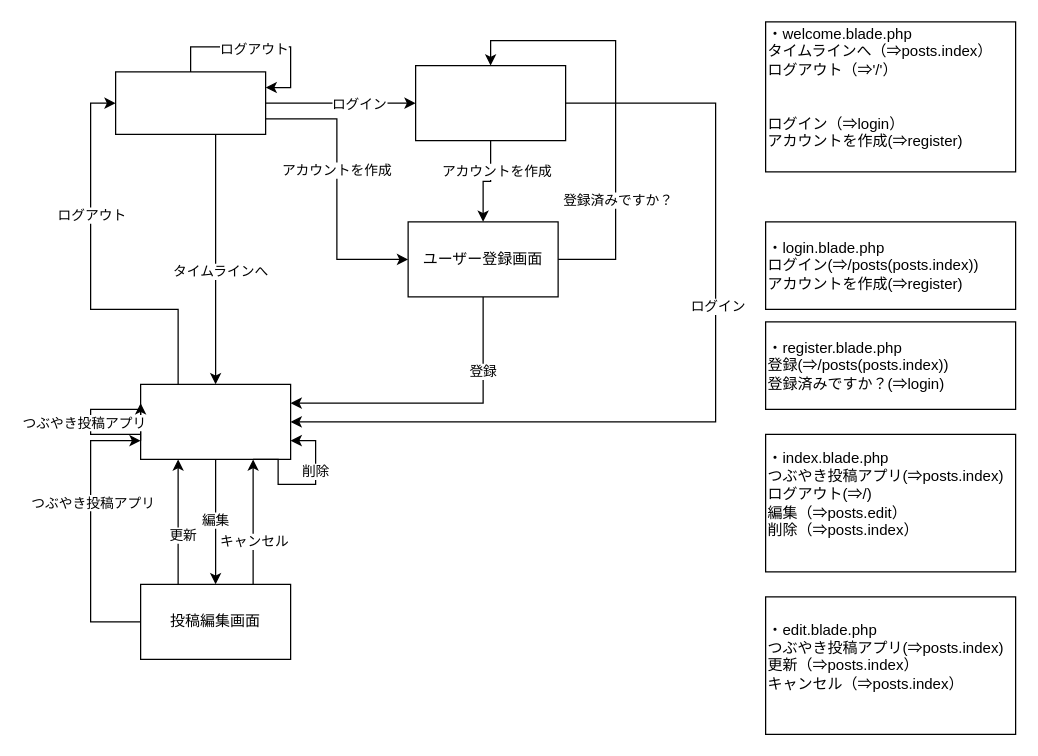
This 1038x756 diagram has some shape labels left out. Each missing label, with the centre of its shape:
トップ画面: the point at 190,102
ログイン画面: the point at 490,102
投稿一覧画面: the point at 215,421
